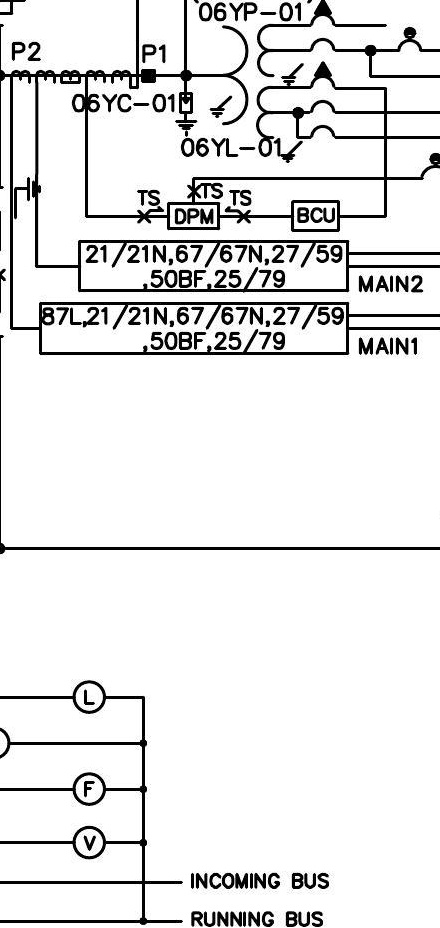115_la: (174, 92, 198, 138)
BCU: (290, 199, 341, 233)
DPM: (166, 201, 220, 231)
